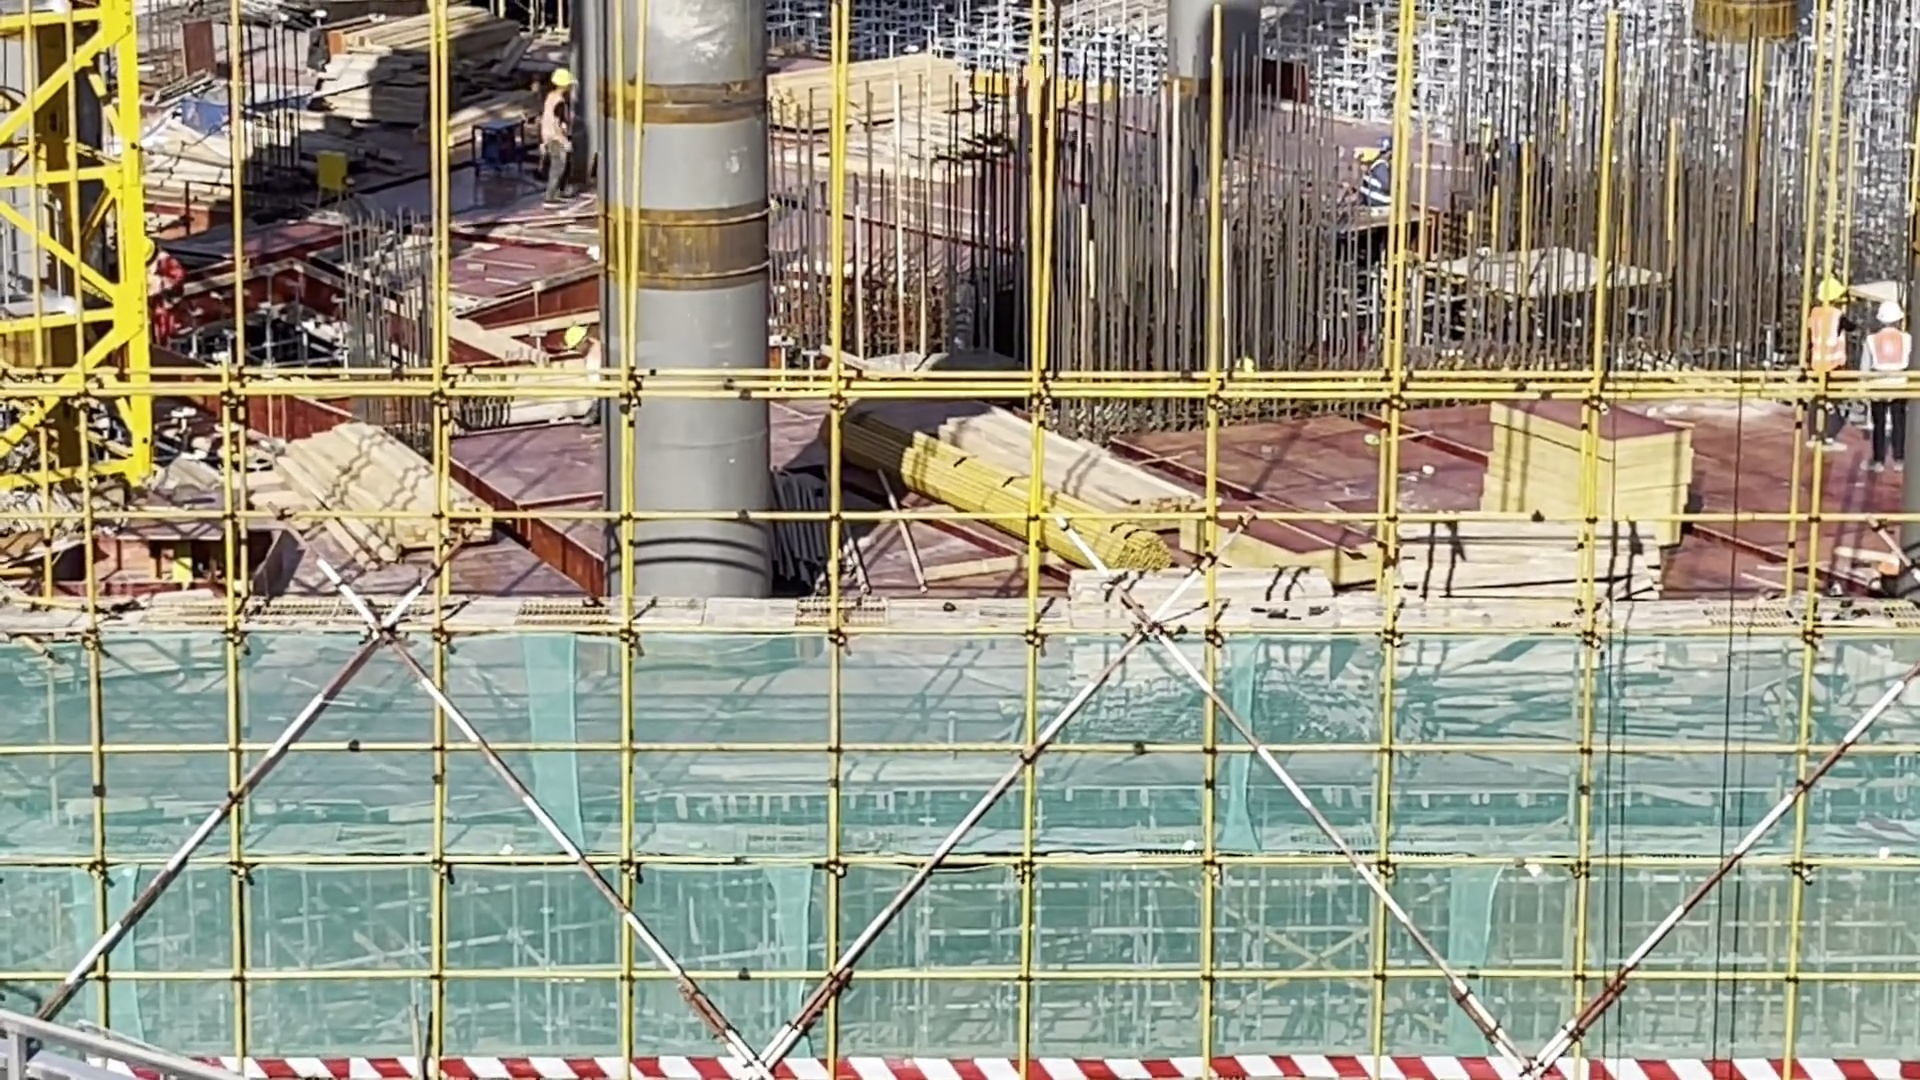board: (1494, 401, 1689, 533), (323, 11, 501, 129)
helmet: (1816, 277, 1845, 302), (1876, 302, 1906, 323)
person: (1856, 303, 1920, 480), (1798, 266, 1844, 465), (529, 60, 579, 204)
vest: (1812, 305, 1843, 371), (1870, 328, 1910, 369)
wood: (913, 418, 1217, 572), (274, 424, 508, 572), (1389, 514, 1673, 607), (769, 47, 973, 133)
